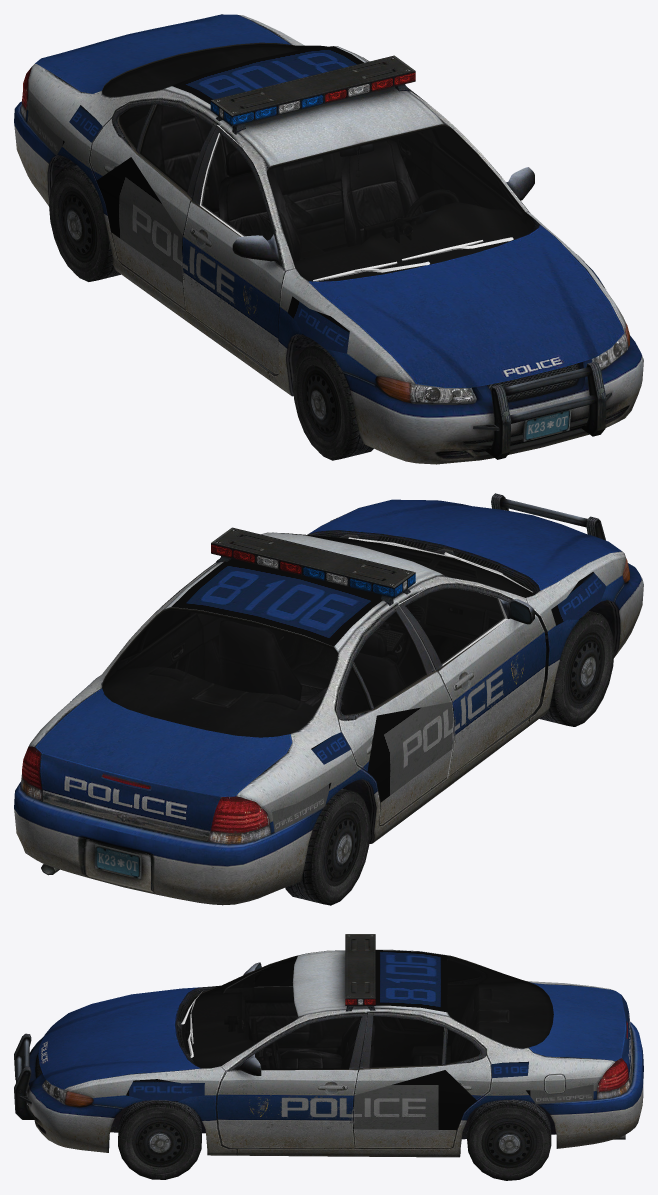
File: Police_Car_3D_Model.fbx
3 views of the same model, one above another, from view 1: azimuth 30°, elevation 25°; view 2: azimuth 150°, elevation 25°; view 3: azimuth 270°, elevation 25° (orthographic). The views are drawn at different scales.
Parts seen in each view (by area): view 1: Body, Front_Right, Back_Right; view 2: Body, Back_Right, Front_Right; view 3: Body, Back_Left, Front_Left.
Part boxes in pixels (x1,y1,x2,y2): Body: (14, 14, 643, 464); Front_Right: (293, 344, 373, 460); Back_Right: (49, 165, 120, 281); Body: (14, 493, 643, 905); Back_Right: (285, 788, 370, 905); Front_Right: (539, 611, 614, 726); Body: (14, 934, 643, 1157); Back_Left: (467, 1099, 551, 1180); Front_Left: (118, 1100, 201, 1179).
Bounding box in the file's own units: 24.66 × 18.62 × 62.69.
Materials: 10 (8 with a texture image).
